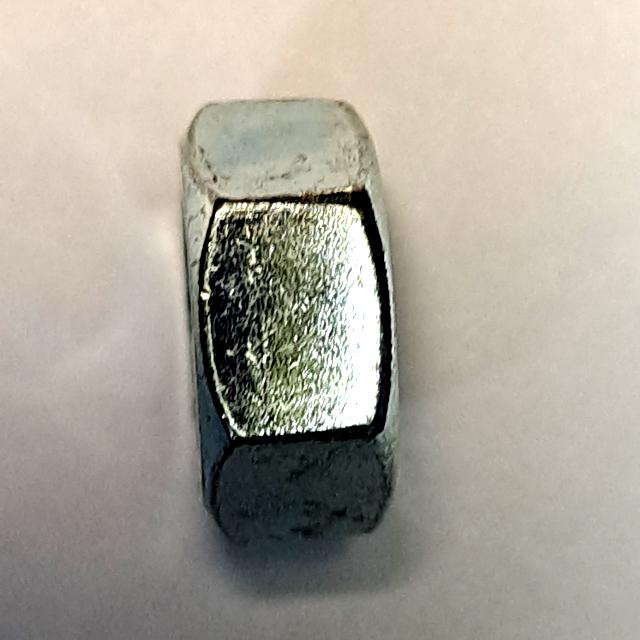Side_Excellent: (162, 72, 415, 573)
